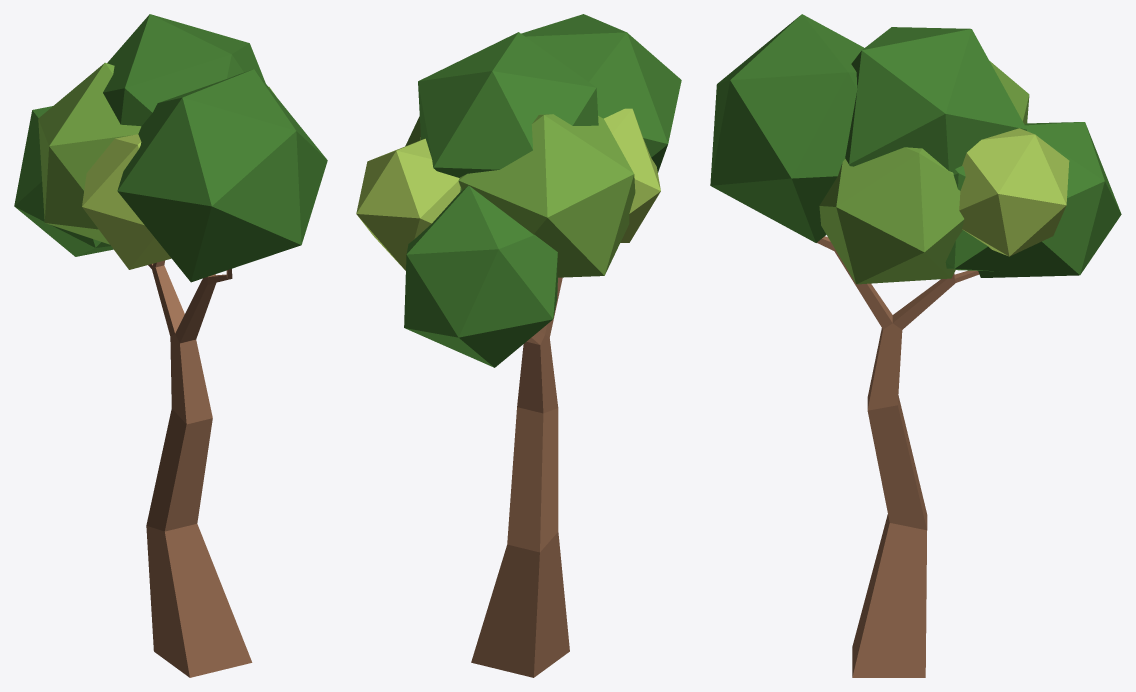
Rendered from OakTree3.fbx.
The picture shows the model from 3 angles, left to right: view 1: azimuth 30°, elevation 25°; view 2: azimuth 150°, elevation 25°; view 3: azimuth 270°, elevation 25°; orthographic projection.
Visible parts, largest first — view 1: Leaves.005, Trunk, Leaves, Leaves.006, Leaves.007, Leaves.004; view 2: Leaves.004, Trunk, Leaves, Leaves.006, Leaves.005, Leaves.003, Leaves.007; view 3: Leaves.005, Trunk, Leaves, Leaves.002, Leaves.003, Leaves.004, Leaves.001, Leaves.006.
Part boxes in pixels (<box>): Leaves.005: <box>117,69,327,282</box>; Trunk: <box>146,260,252,677</box>; Leaves: <box>103,14,265,126</box>; Leaves.006: <box>38,62,141,244</box>; Leaves.007: <box>82,134,171,269</box>; Leaves.004: <box>14,106,113,256</box>; Leaves.004: <box>404,185,557,367</box>; Trunk: <box>471,277,569,677</box>; Leaves: <box>418,32,598,177</box>; Leaves.006: <box>458,114,635,277</box>; Leaves.005: <box>521,14,681,172</box>; Leaves.003: <box>356,138,460,270</box>; Leaves.007: <box>604,108,660,242</box>; Leaves.005: <box>710,14,864,242</box>; Trunk: <box>817,236,979,677</box>; Leaves: <box>845,27,1026,172</box>; Leaves.002: <box>819,147,964,284</box>; Leaves.003: <box>959,128,1069,256</box>; Leaves.004: <box>978,122,1121,277</box>; Leaves.001: <box>945,166,1008,271</box>; Leaves.006: <box>989,61,1029,124</box>.
Bounding box in the file's own units: 793 × 1886 × 1121.
